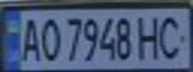4: (100, 14, 118, 61)
7: (60, 14, 84, 62)
8: (115, 14, 139, 61)
9: (78, 14, 100, 62)
A: (15, 14, 42, 63)
C: (154, 11, 190, 61)
H: (136, 12, 166, 61)
O: (36, 15, 60, 62)
